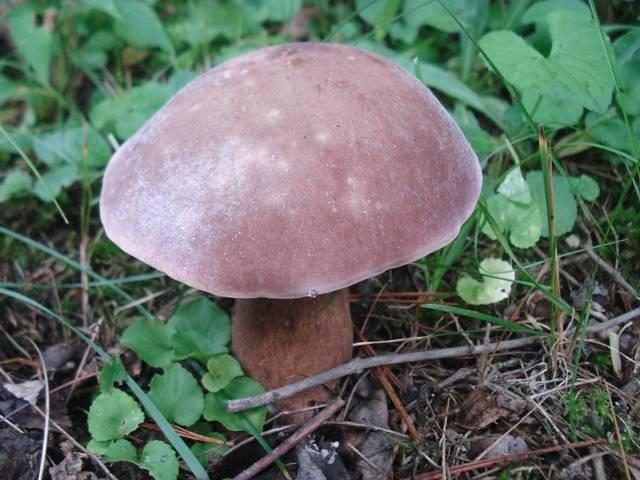Non-edible Mushroom: (97, 39, 484, 428)
